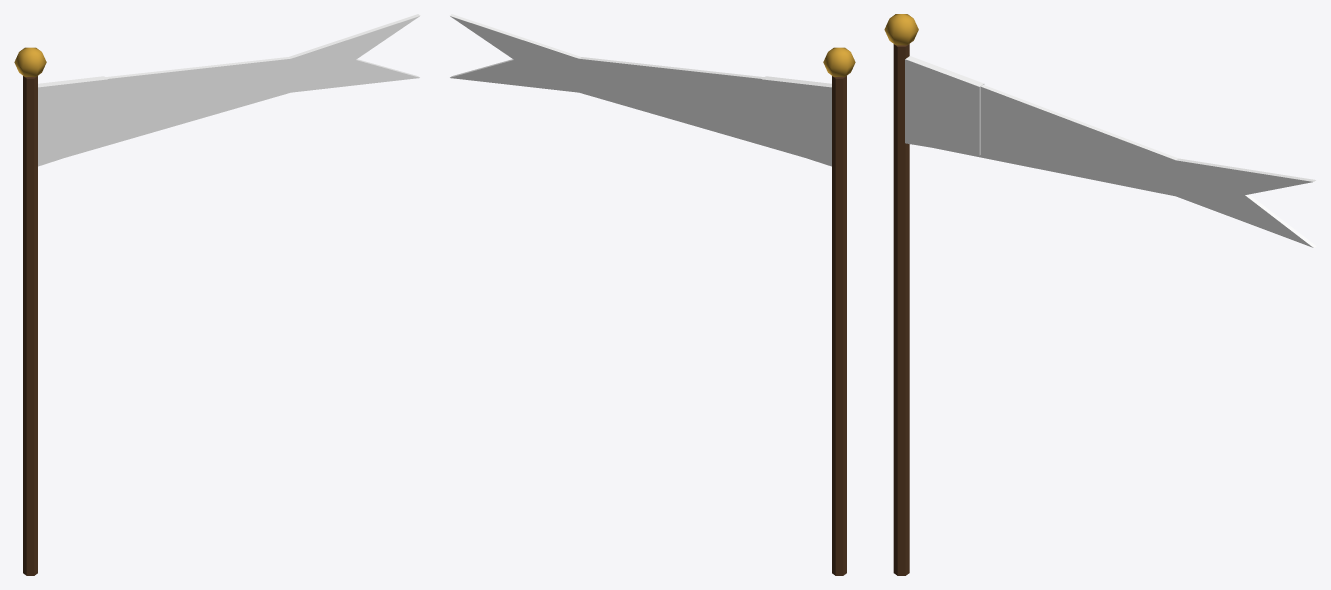
The model's file is castle_pennant.glb.
3 renders of one model, left to right at view 1: azimuth 30°, elevation 25°; view 2: azimuth 150°, elevation 25°; view 3: azimuth 330°, elevation 25°, orthographic. The views are drawn at different scales.
Parts seen in each view (by area): view 1: castle_pennant; view 2: castle_pennant; view 3: castle_pennant.
Boxes of the visible parts, bbox=[...] form: castle_pennant: bbox=[14, 14, 420, 575]; castle_pennant: bbox=[449, 14, 855, 575]; castle_pennant: bbox=[884, 14, 1316, 575].
Size of the model in its own units: 3.71 by 4.65 by 0.26.
